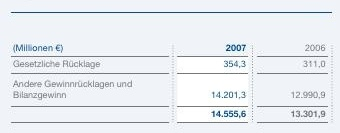table: (0, 0, 340, 133)
